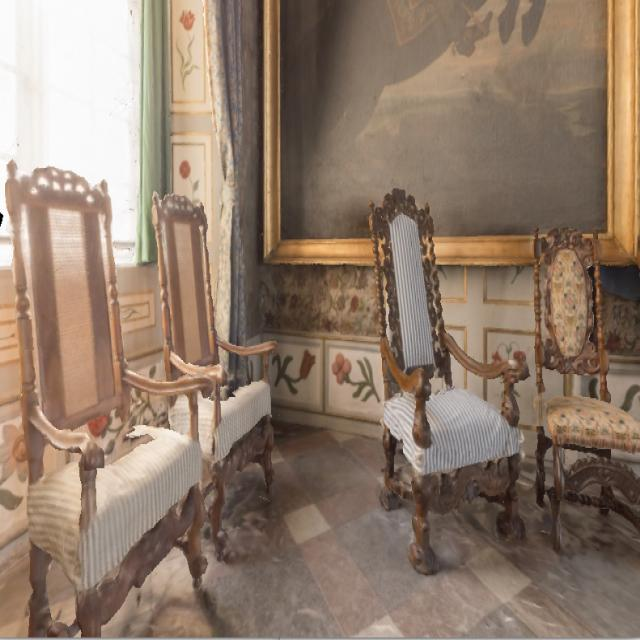chair: (0, 155, 209, 639), (353, 179, 524, 575), (139, 180, 291, 538), (519, 206, 640, 588)
